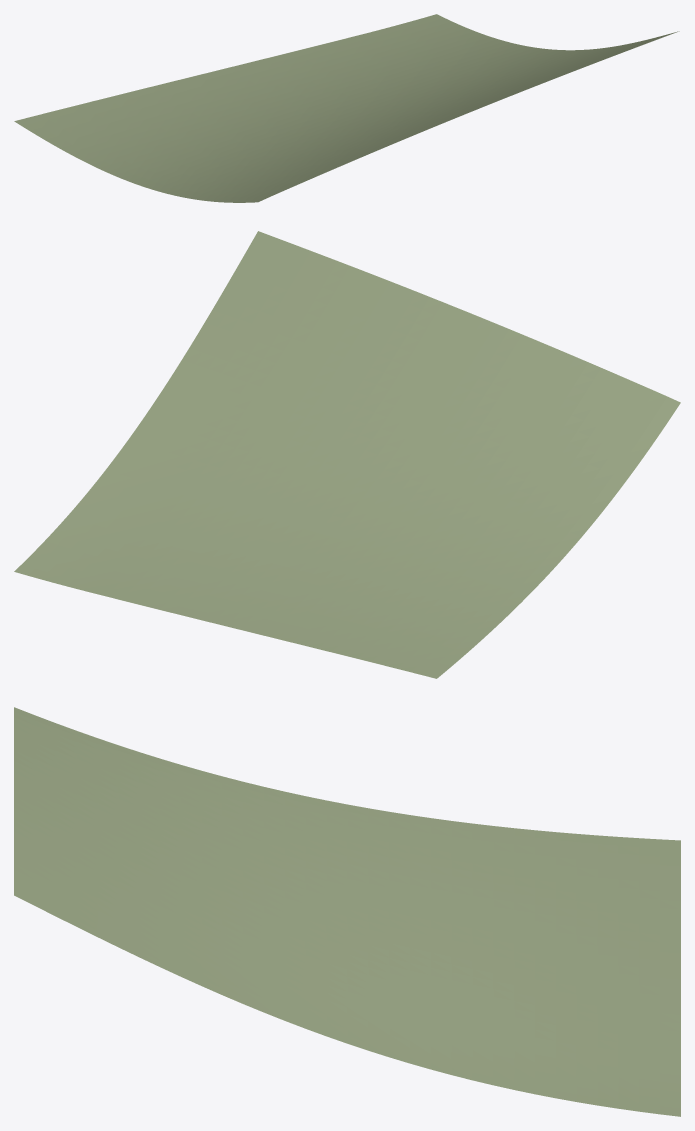
Rendered from expanse-23-20.glb.
3 views of the same model, one above another, from view 1: azimuth 30°, elevation 25°; view 2: azimuth 150°, elevation 25°; view 3: azimuth 270°, elevation 25° (orthographic). The views are drawn at different scales.
Parts seen in each view (by area): view 1: expanse-23-20; view 2: expanse-23-20; view 3: expanse-23-20.
Boxes of the visible parts, box(x1,y1,x2,y2) form: expanse-23-20: box(14, 14, 679, 202); expanse-23-20: box(14, 231, 680, 678); expanse-23-20: box(14, 707, 680, 1116).
Size of the model in its own units: 256 by 96.07 by 256.
